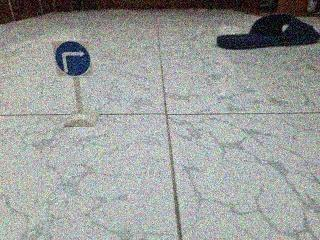right: (41, 33, 100, 84)
